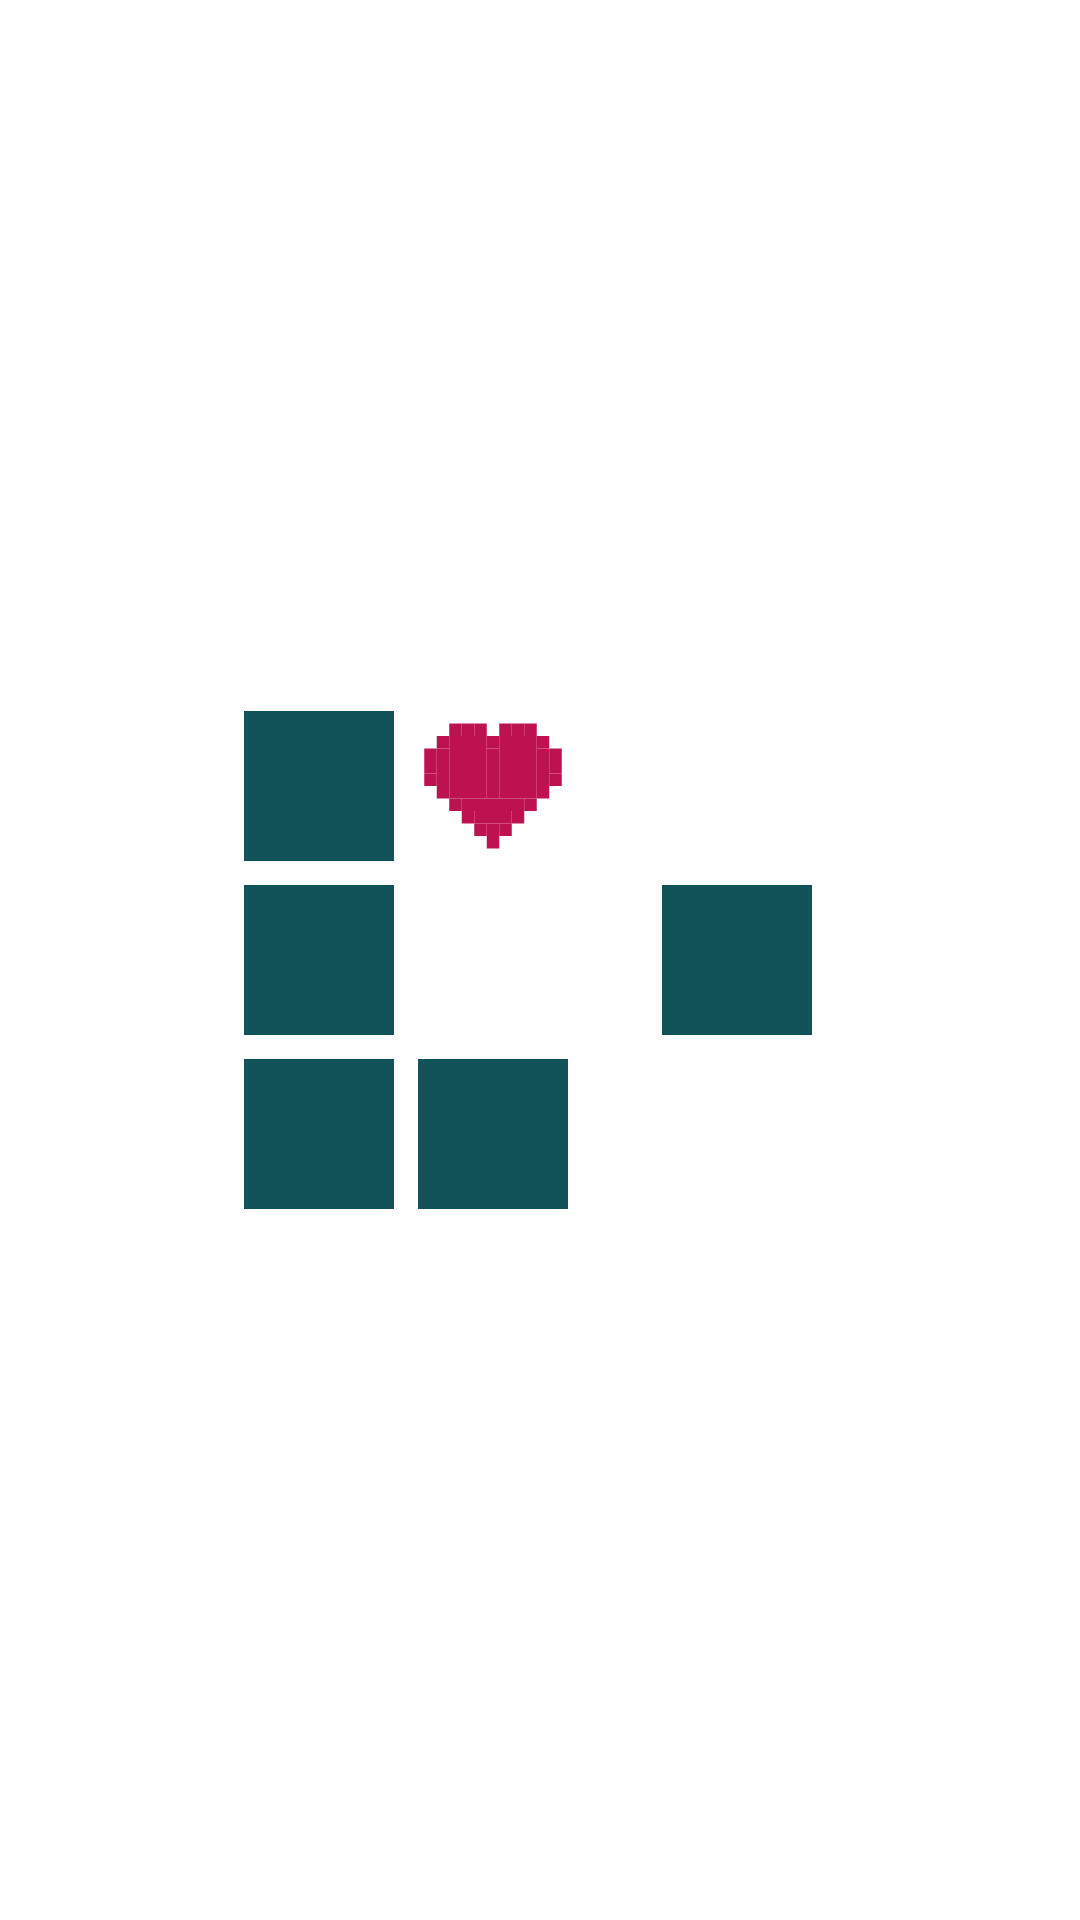

Icon bounding boxes for this 1080 x 1920 phone screenshot, format (x1, y1, x2, y2):
heart full: (424, 723, 562, 849)
